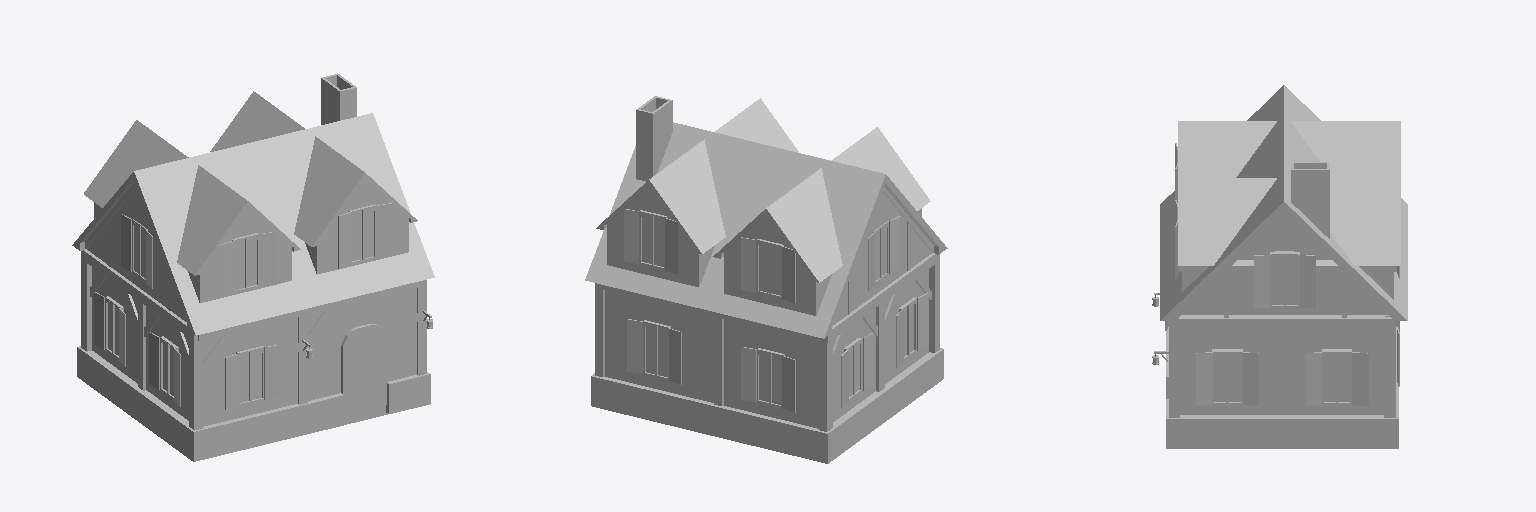
File: residential_wood_2.obj
3 views of the same model, side by side, from view 1: azimuth 30°, elevation 25°; view 2: azimuth 150°, elevation 25°; view 3: azimuth 270°, elevation 25° (orthographic).
Visible parts, largest first — view 1: Null_2; view 2: Null_2; view 3: Null_2.
Boxes of the visible parts, box(x1,y1,x2,y2) form: Null_2: box(72, 74, 434, 461); Null_2: box(585, 96, 947, 463); Null_2: box(1152, 85, 1407, 448).
Bounding box in the file's own units: 0.9147 × 1.01 × 0.8442.